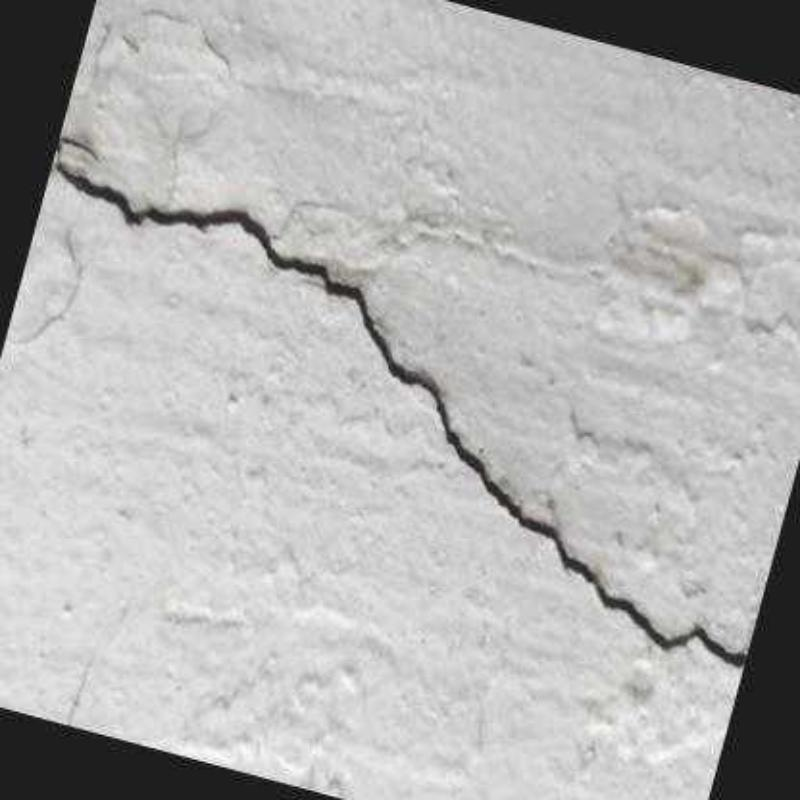pothole: (49, 133, 742, 675)
